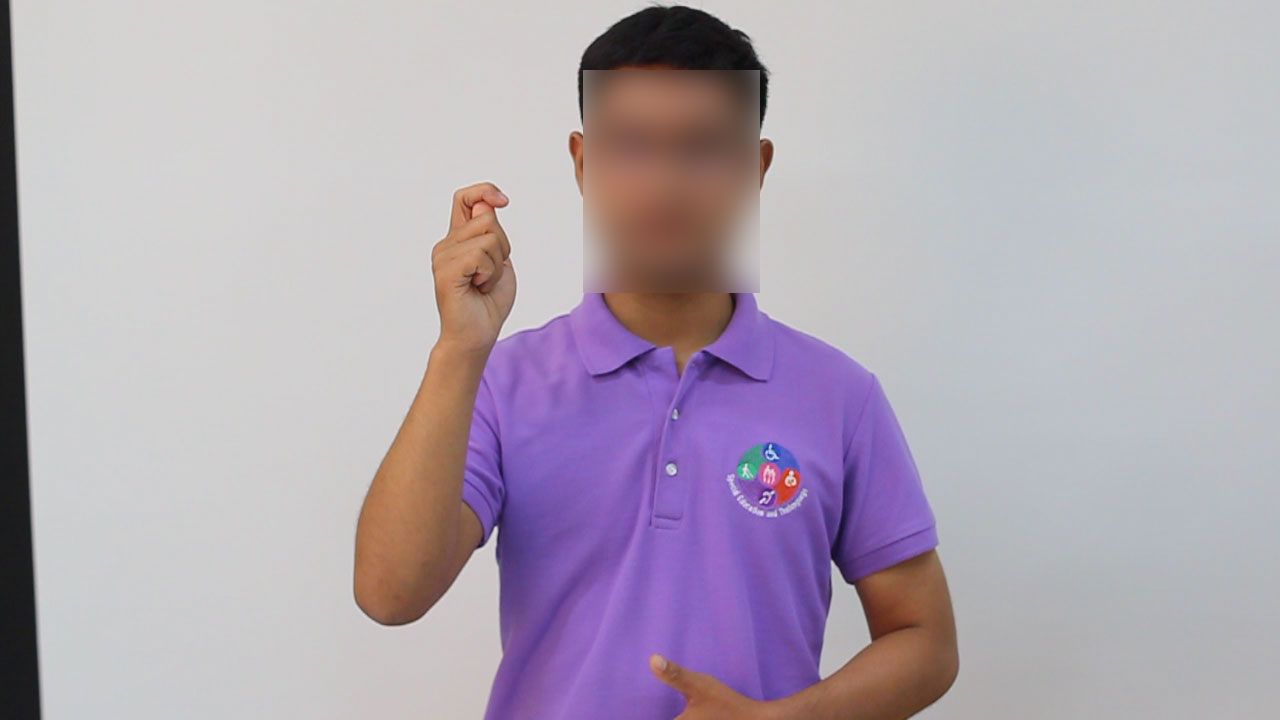or: (423, 175, 520, 372)
